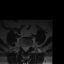CCS_normal: (24, 44, 26, 52)
LFS_normal: (28, 43, 30, 49)
LLS_normal: (26, 45, 28, 51)
RFS_normal: (20, 44, 22, 49)
RLS_normal: (22, 44, 24, 51)
